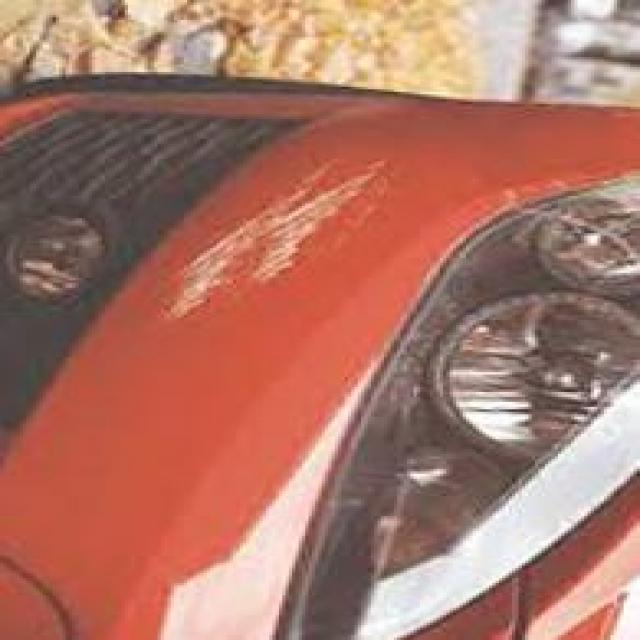scratch: (143, 129, 399, 335)
